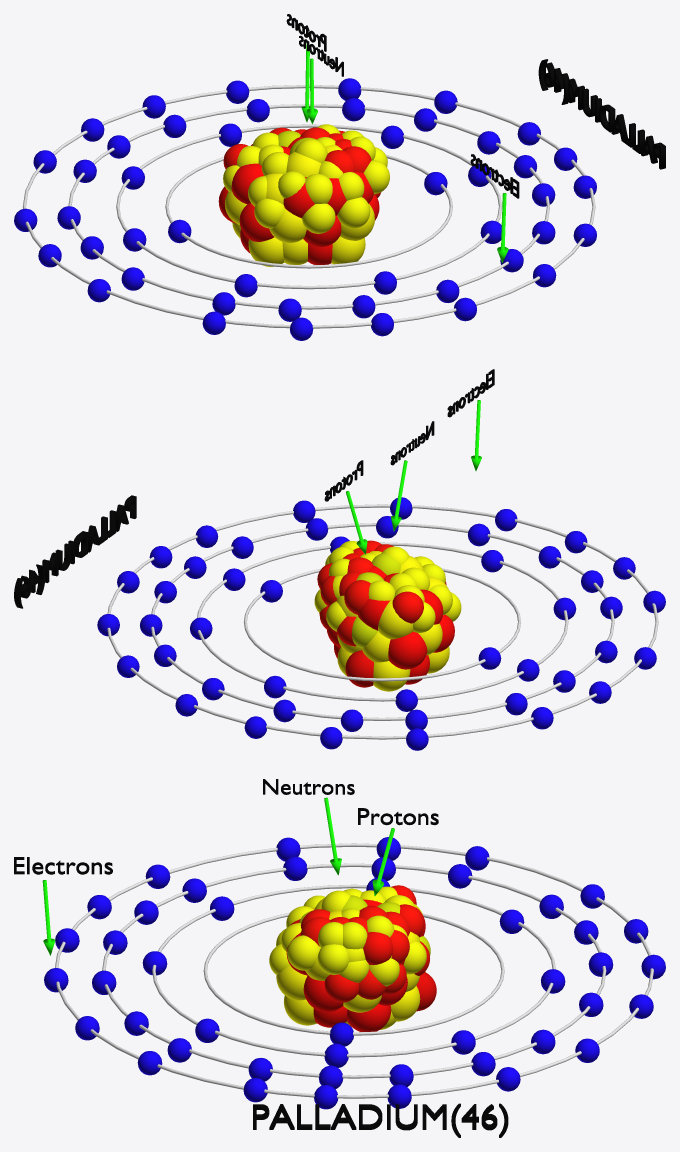
Rendered from Palladium Atomic Model.gltf.
3 views of the same model, one above another, from view 1: azimuth 30°, elevation 25°; view 2: azimuth 150°, elevation 25°; view 3: azimuth 270°, elevation 25° (orthographic). The views are drawn at different scales.
Visible parts, largest first — view 1: Sphere.012, Torus.003, Text.003, Torus.002, Torus.001, Torus, Text, Sphere.015; view 2: Sphere.012, Torus.003, Torus.002, Text.003, Torus.001, Torus, Sphere.016, Text; view 3: Sphere.012, Torus.003, Torus.002, Text.003, Torus.001, Torus, Text, Sphere.001, Sphere.014, Sphere.009, Text.001, Text.002 (+2 smaller).
Part boxes in pixels (bbox=[...]): Sphere.012: bbox=[218, 127, 389, 266]; Torus.003: bbox=[22, 84, 595, 328]; Text.003: bbox=[538, 59, 665, 169]; Torus.002: bbox=[68, 104, 549, 309]; Torus.001: bbox=[116, 124, 502, 289]; Torus: bbox=[165, 154, 452, 268]; Text: bbox=[470, 154, 519, 198]; Sphere.015: bbox=[278, 171, 305, 198]; Sphere.012: bbox=[314, 540, 461, 691]; Torus.003: bbox=[107, 504, 658, 739]; Torus.002: bbox=[151, 523, 614, 720]; Text.003: bbox=[14, 495, 136, 608]; Torus.001: bbox=[197, 542, 568, 701]; Torus: bbox=[244, 568, 520, 681]; Sphere.016: bbox=[392, 591, 423, 623]; Text: bbox=[447, 369, 494, 417]; Sphere.012: bbox=[269, 886, 436, 1031]; Torus.003: bbox=[55, 843, 653, 1098]; Torus.002: bbox=[102, 863, 606, 1078]; Text.003: bbox=[253, 1103, 508, 1137]; Torus.001: bbox=[152, 884, 555, 1057]; Torus: bbox=[203, 913, 504, 1035]; Text: bbox=[14, 857, 112, 874]; Sphere.001: bbox=[363, 932, 392, 965]; Sphere.014: bbox=[317, 944, 349, 974]; Sphere.009: bbox=[324, 974, 358, 1002]; Text.001: bbox=[263, 779, 354, 794]; Text.002: bbox=[358, 808, 438, 825].
Bounding box in the file's own units: 7.31 × 2.86 × 7.03.
